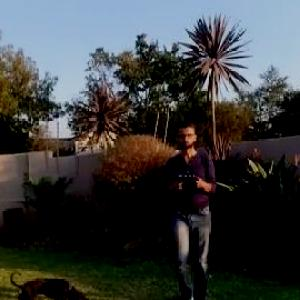follow: (164, 118, 220, 299)
null: (7, 264, 93, 299)
